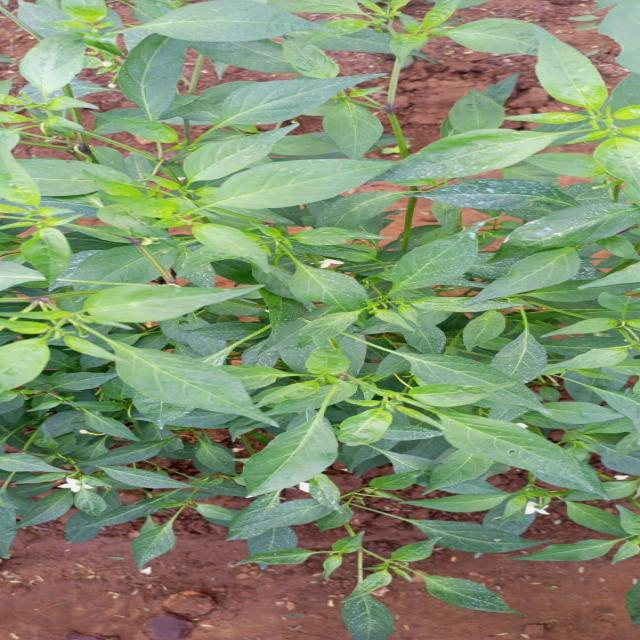Mosaic_virus: (0, 0, 640, 608)
